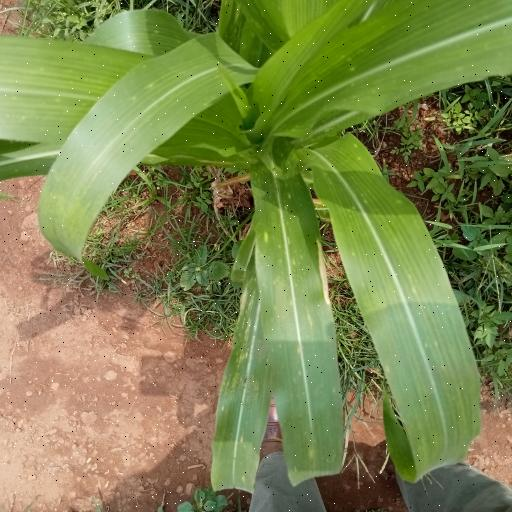Corn_Brown_Spots: (314, 137, 483, 490), (0, 24, 243, 252), (250, 152, 349, 482)
